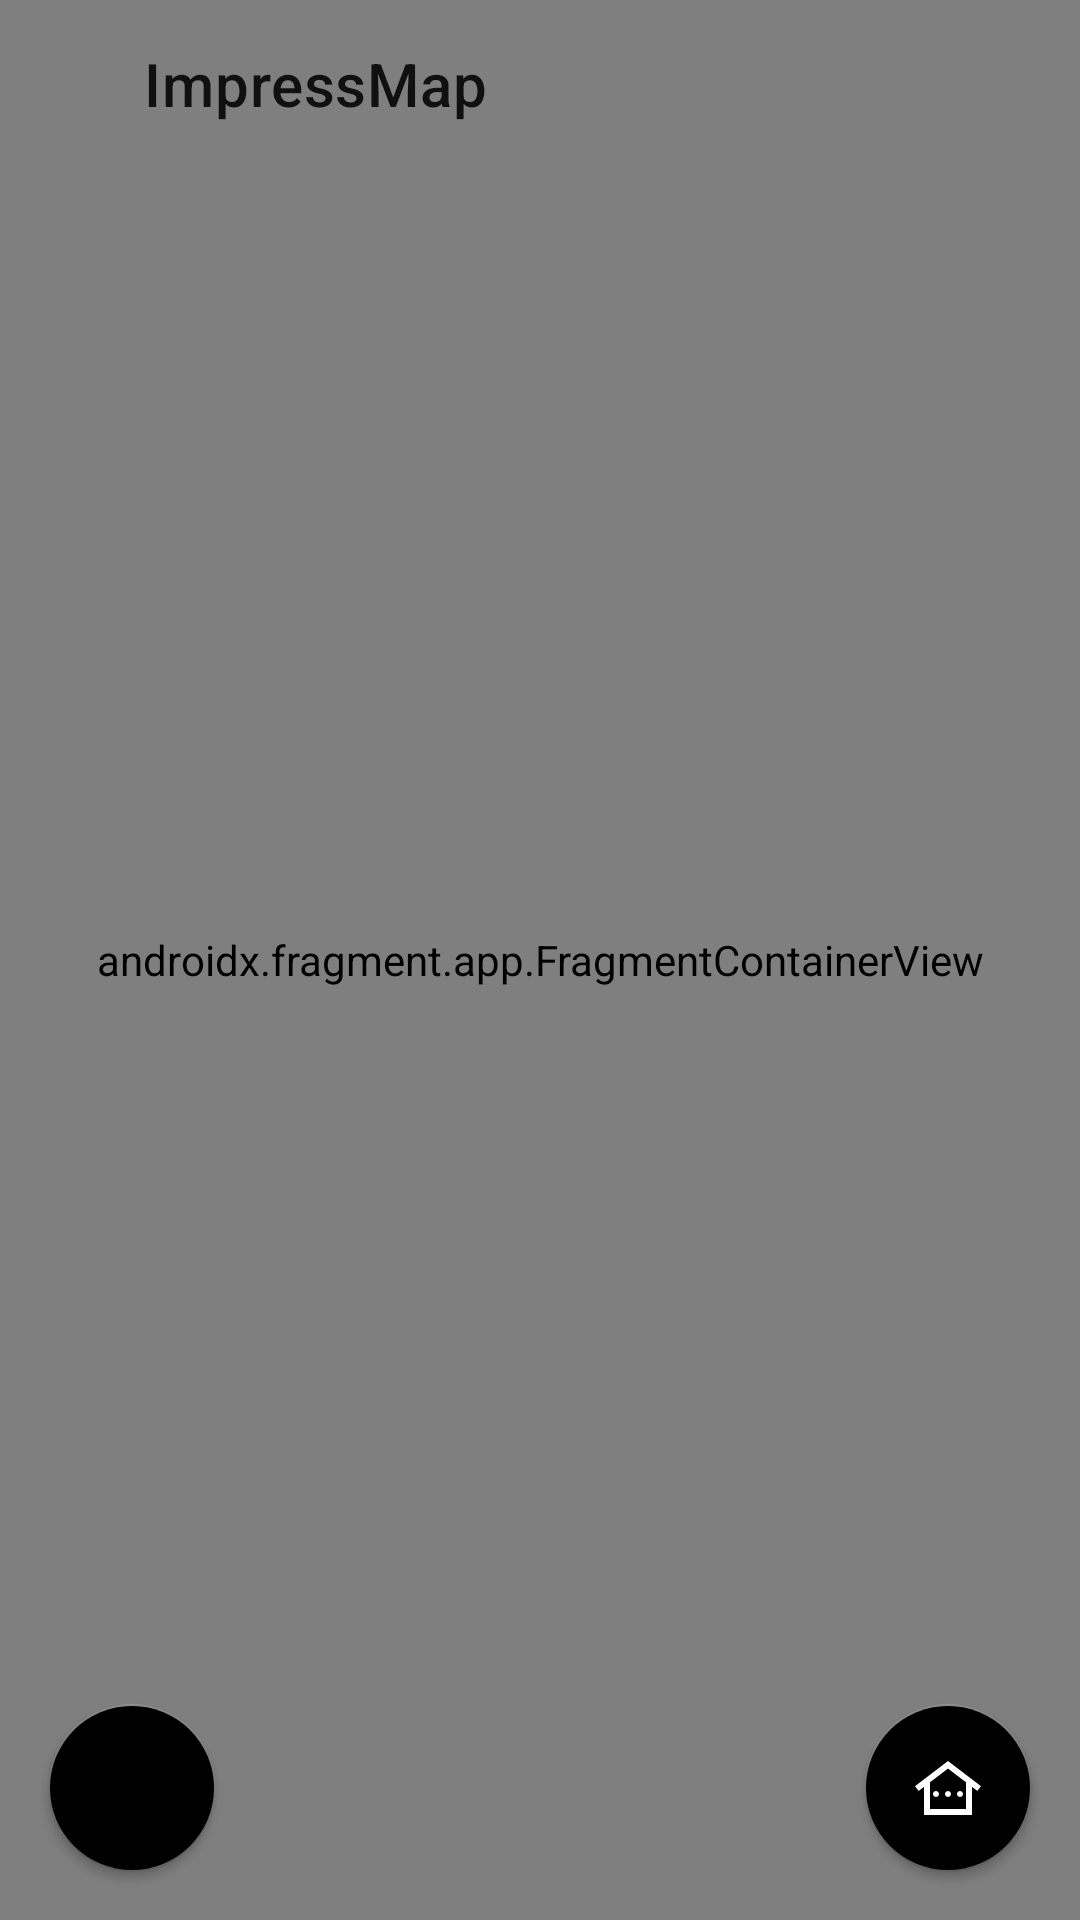

Point at icon controls on the screen. Image size 1080 x 1920, points as (x,y).
other addresses: (948,1789)
